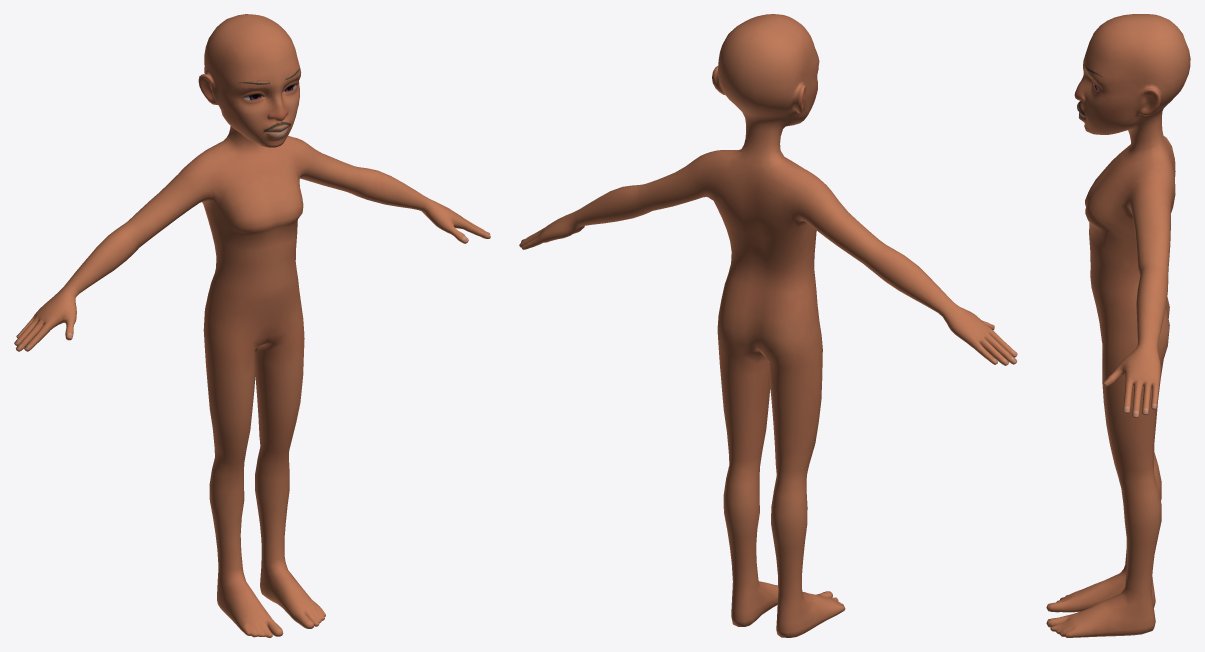
File: frame_0039.glb
The picture shows the model from 3 angles, left to right: view 1: azimuth 30°, elevation 25°; view 2: azimuth 150°, elevation 25°; view 3: azimuth 270°, elevation 25°; orthographic projection. The views are drawn at different scales.
Visible parts, largest first — view 1: frame_0039_head_geo; view 2: frame_0039_head_geo; view 3: frame_0039_head_geo.
Part boxes in pixels (box(x1,y1,x2,y2)): frame_0039_head_geo: box(14, 14, 490, 637); frame_0039_head_geo: box(519, 14, 1017, 637); frame_0039_head_geo: box(1046, 14, 1190, 637).
Size of the model in its own units: 1.28 by 1.5 by 0.3253.
3 materials, 3 textured.
